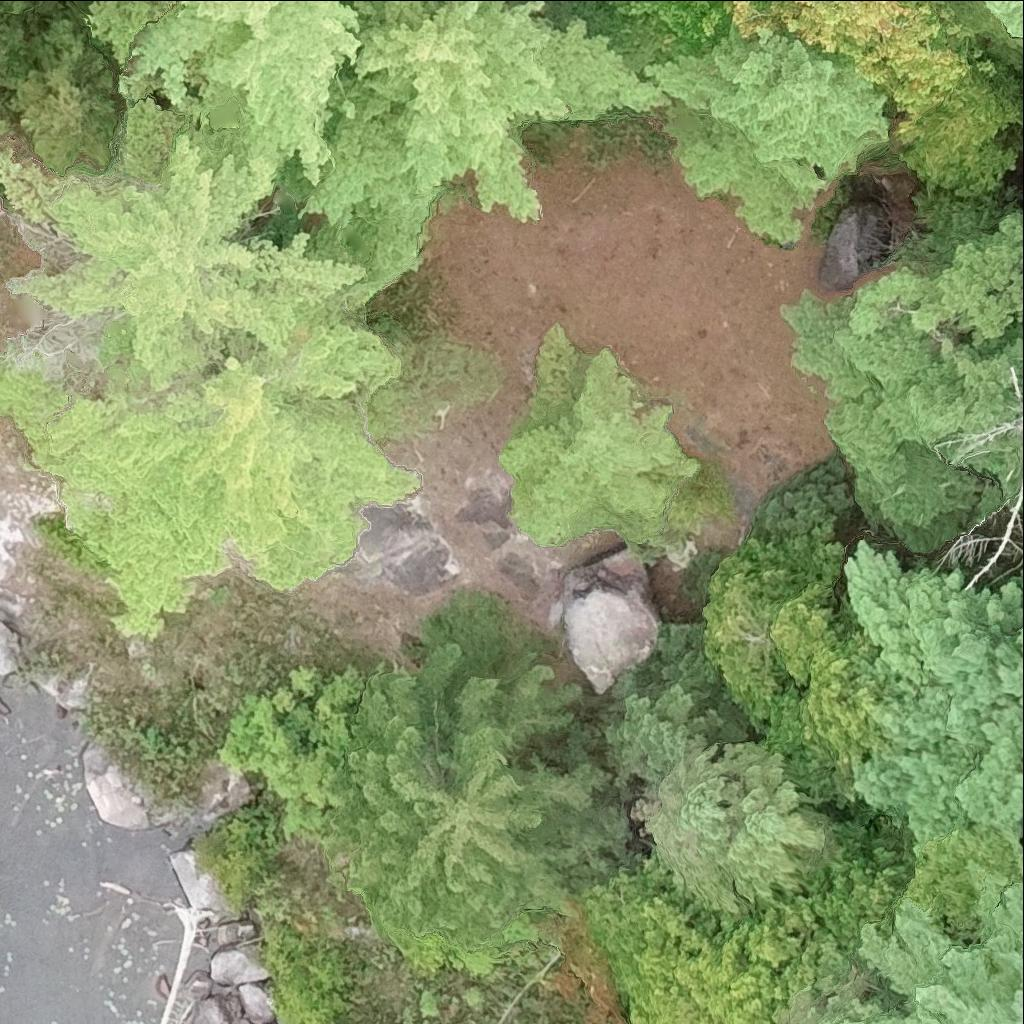crown: (0, 329, 418, 633), (0, 107, 364, 384), (325, 642, 613, 949), (779, 215, 1023, 555), (588, 823, 921, 1023), (703, 520, 901, 801), (848, 538, 1023, 855), (646, 10, 889, 237), (89, 0, 363, 199), (620, 688, 822, 912), (502, 322, 697, 545), (729, 0, 966, 115), (853, 886, 1023, 1023), (893, 65, 1015, 194), (902, 814, 1023, 940), (7, 53, 116, 171), (780, 949, 907, 1023), (610, 0, 733, 55), (972, 491, 1023, 588), (0, 24, 41, 134), (26, 22, 91, 71), (955, 417, 1023, 458), (989, 0, 1023, 46), (0, 0, 33, 15), (751, 0, 772, 7)
